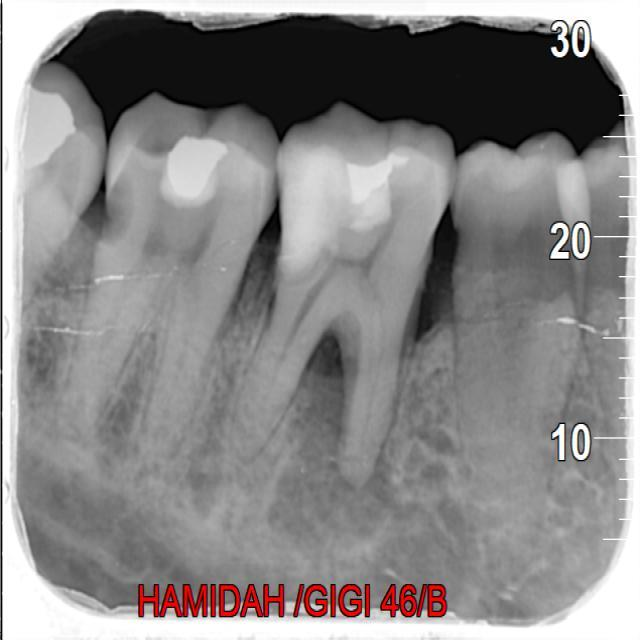individual-tooth-8tto: (65, 96, 288, 503), (228, 114, 454, 493), (441, 128, 595, 508)
